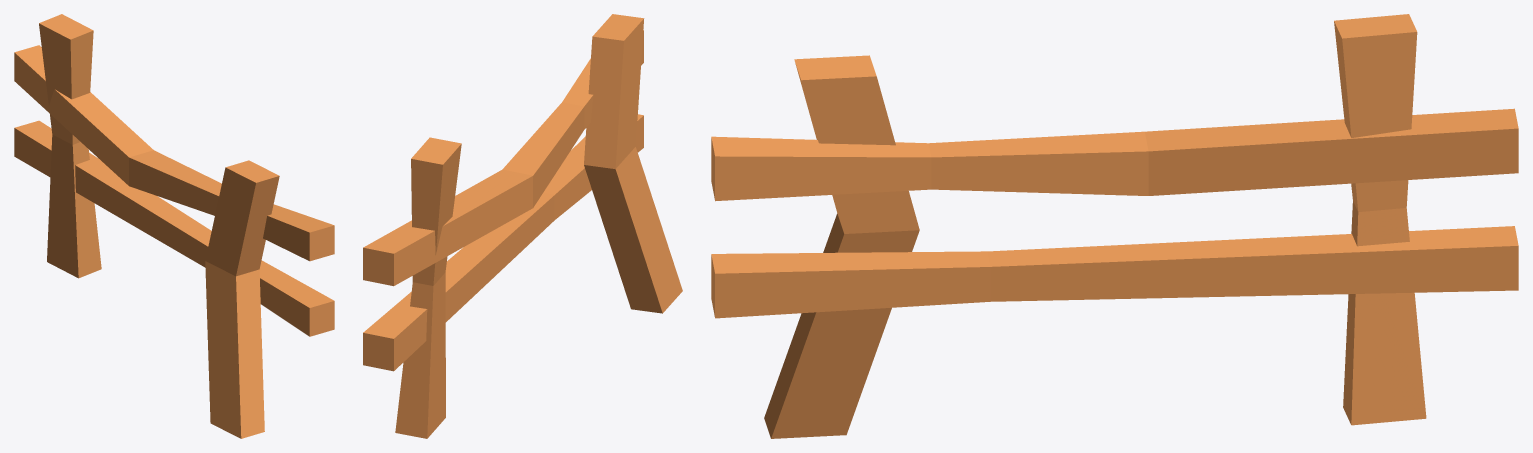
Rendered from fence.fbx.
3 renders of one model, left to right at view 1: azimuth 30°, elevation 25°; view 2: azimuth 150°, elevation 25°; view 3: azimuth 270°, elevation 25°, orthographic. The views are drawn at different scales.
Visible parts, largest first — view 1: Plane.049; view 2: Plane.049; view 3: Plane.049.
Part boxes in pixels (bbox=[...]): Plane.049: bbox=[14, 14, 334, 438]; Plane.049: bbox=[363, 14, 682, 438]; Plane.049: bbox=[711, 14, 1518, 438].
Bounding box in the file's own units: 33.64 × 101 × 180.
